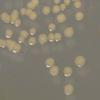yellow: (74, 54, 86, 70), (64, 25, 75, 40), (73, 10, 85, 23), (64, 84, 74, 97), (38, 32, 46, 46), (56, 12, 66, 23), (48, 66, 58, 77), (44, 57, 53, 68), (64, 66, 72, 78), (70, 0, 82, 8), (27, 36, 36, 46), (63, 0, 72, 10), (15, 18, 23, 29), (12, 43, 20, 54), (0, 11, 8, 22), (5, 28, 12, 40), (47, 31, 54, 43), (29, 9, 36, 21), (28, 26, 36, 36), (11, 7, 19, 17), (43, 6, 51, 16), (30, 0, 40, 8), (58, 2, 65, 13), (54, 31, 60, 43), (27, 3, 35, 12), (52, 6, 60, 15), (3, 14, 10, 24), (0, 38, 6, 49), (49, 22, 56, 31), (20, 7, 26, 17), (24, 8, 31, 16), (11, 13, 16, 24), (22, 29, 28, 38), (18, 37, 24, 46), (53, 0, 62, 6)
